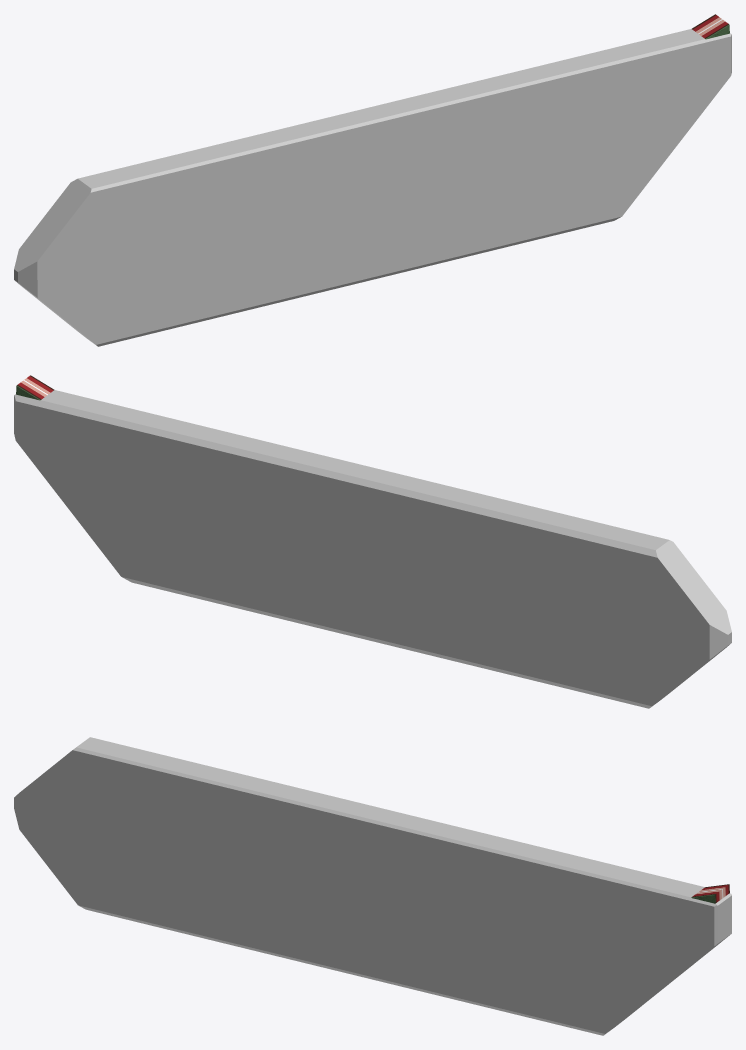
File: SM_DG_AngleRafter01A.fbx
The picture shows the model from 3 angles, top to bottom: view 1: azimuth 30°, elevation 25°; view 2: azimuth 150°, elevation 25°; view 3: azimuth 330°, elevation 25°; orthographic projection.
Visible parts, largest first — view 1: SM_DG_AngleRafter01A_ConvexHulls, SM_DG_AngleRafter01A; view 2: SM_DG_AngleRafter01A_ConvexHulls, SM_DG_AngleRafter01A; view 3: SM_DG_AngleRafter01A_ConvexHulls.
Boxes of the visible parts, bbox=[...] form: SM_DG_AngleRafter01A_ConvexHulls: bbox=[14, 29, 731, 346]; SM_DG_AngleRafter01A: bbox=[692, 14, 729, 39]; SM_DG_AngleRafter01A_ConvexHulls: bbox=[14, 390, 731, 708]; SM_DG_AngleRafter01A: bbox=[16, 375, 54, 400]; SM_DG_AngleRafter01A_ConvexHulls: bbox=[14, 737, 731, 1035].
Bounding box in the file's own units: 742 × 32.37 × 170.
2 materials, 1 textured.
